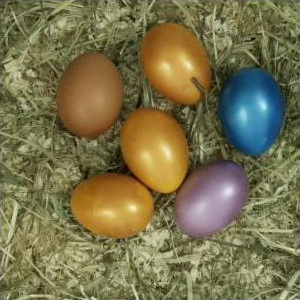egg: (120, 108, 190, 195), (139, 24, 213, 106), (69, 171, 157, 239), (170, 162, 249, 237), (220, 67, 286, 156), (57, 53, 125, 137)
